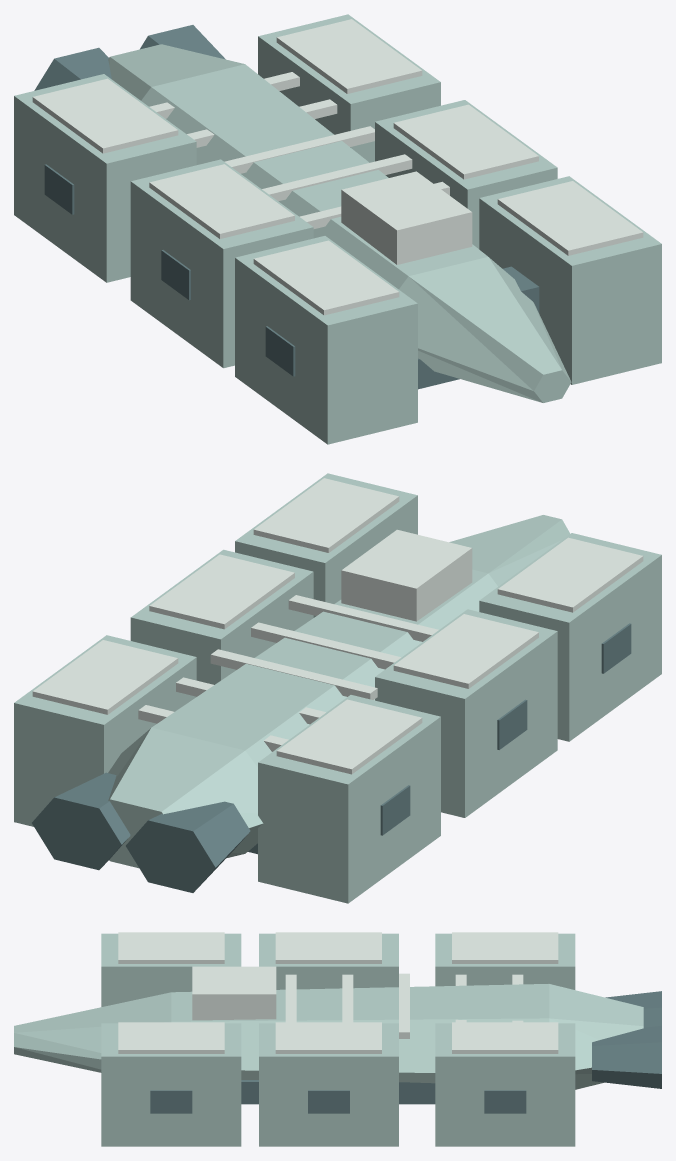
The picture shows the model from 3 angles, top to bottom: view 1: azimuth 30°, elevation 25°; view 2: azimuth 150°, elevation 25°; view 3: azimuth 270°, elevation 25°; orthographic projection. The views are drawn at different scales.
Size of the model in its own units: 4.46 by 1.75 by 9.82.
